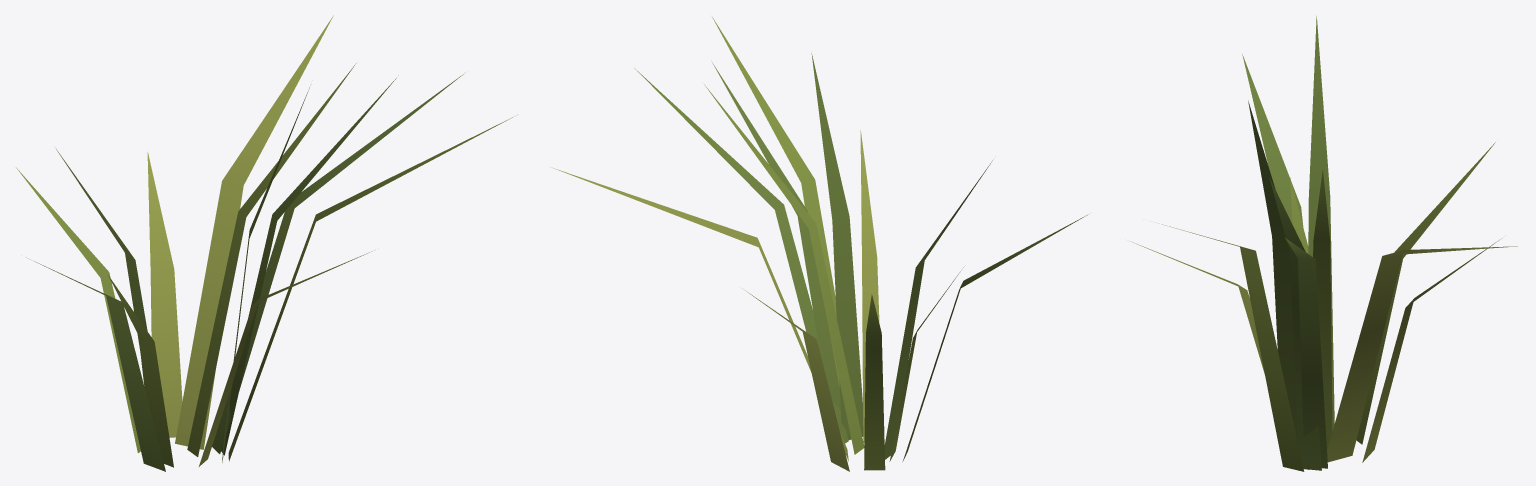
File: grass_0.fbx
3 views of the same model, side by side, from view 1: azimuth 30°, elevation 25°; view 2: azimuth 150°, elevation 25°; view 3: azimuth 270°, elevation 25° (orthographic). The views are drawn at different scales.
Visible parts, largest first — view 1: grass_0; view 2: grass_0; view 3: grass_0.
Part boxes in pixels (bbox=[...]): grass_0: bbox=[16, 15, 512, 471]; grass_0: bbox=[551, 17, 1087, 471]; grass_0: bbox=[1129, 16, 1517, 471].
Bounding box in the file's own units: 0.3658 × 0.2822 × 0.2545.
